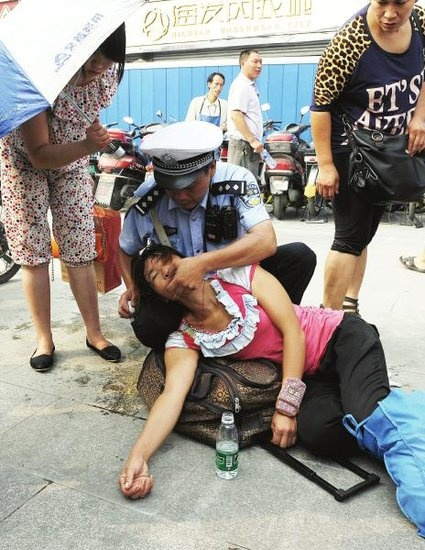falling: (116, 238, 425, 531)
